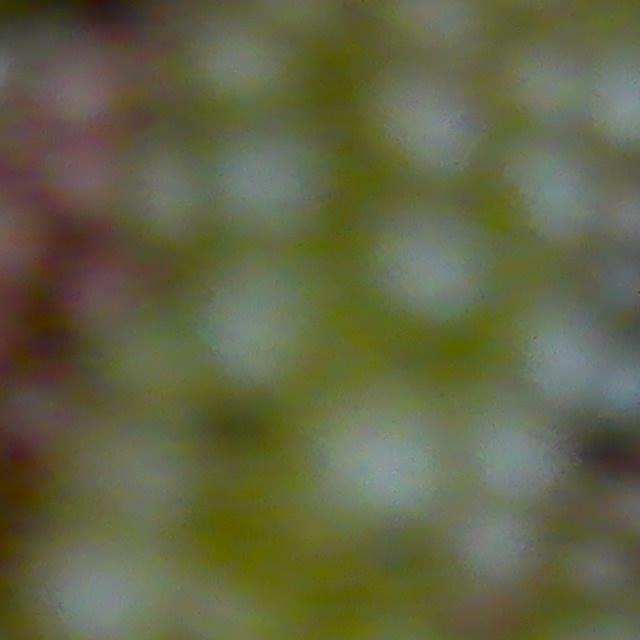SeaGrape: (211, 247, 353, 406), (356, 190, 497, 337), (296, 379, 454, 510), (25, 526, 188, 640), (79, 420, 236, 538), (350, 59, 483, 186), (207, 122, 333, 247), (502, 143, 602, 243), (454, 505, 538, 590)
